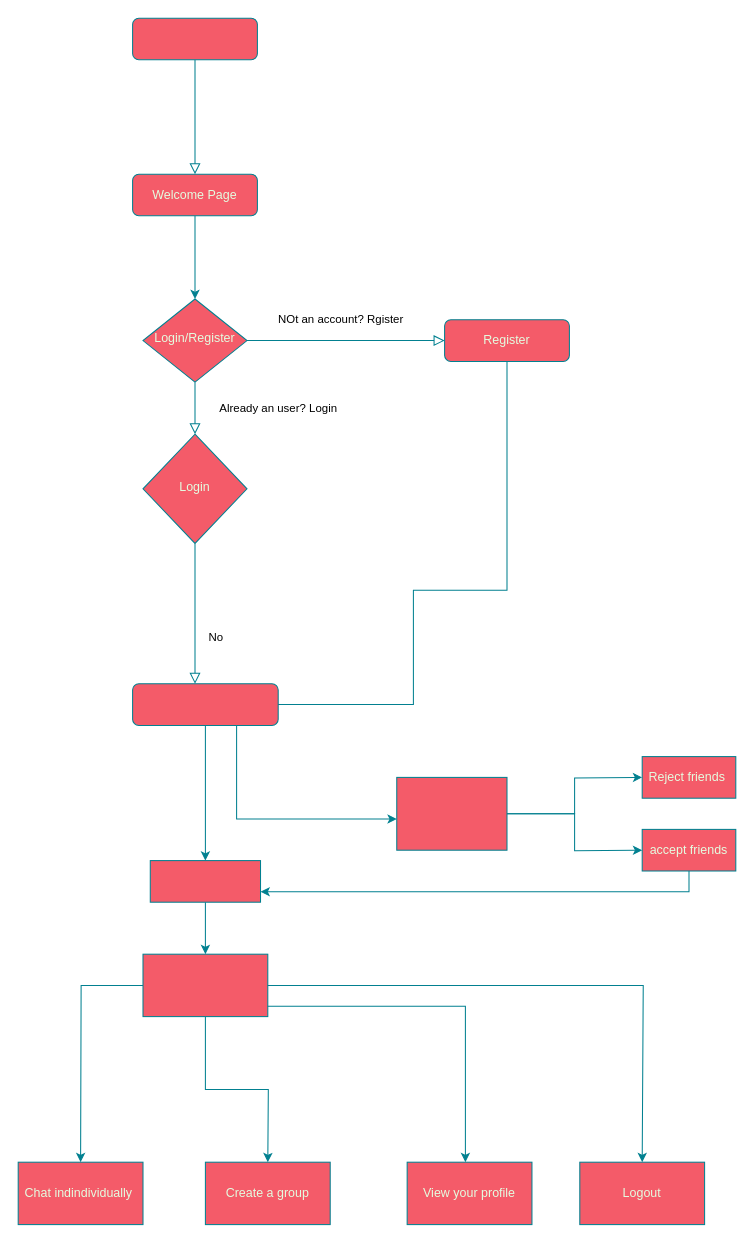
The diagram is 754 pixels wide and 1243 high, and some of its shapes have lost their labels. Each missing label, with the centre of its shape:
Chat App: point (194, 38)
Chat page: point (205, 704)
Check Notifications: point (451, 813)
Search & Add frfriends: point (205, 985)
Use chat app: point (205, 881)
